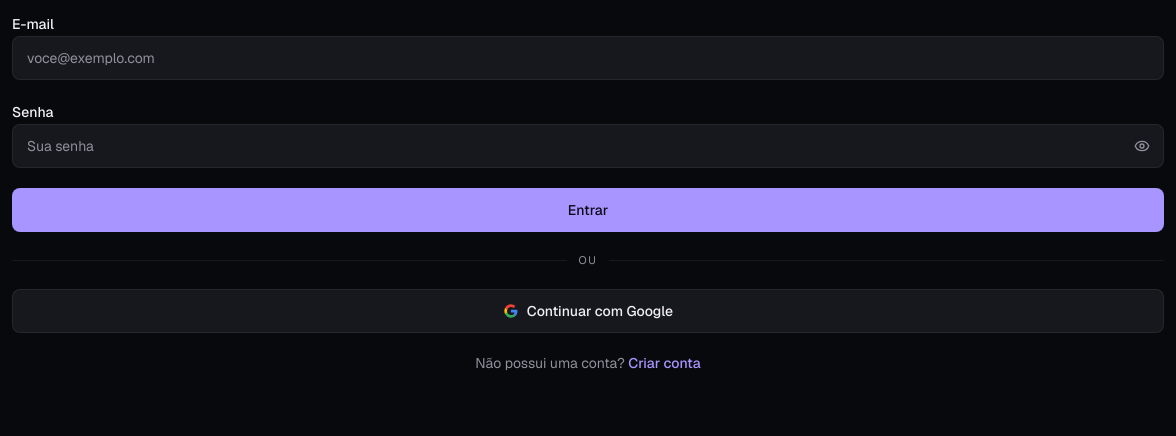
Test: fluxo visual de autenticação › mostra os erros de login perto dos campos
Step 1. Click the button "Entrar" → {"x": 588, "y": 210}, box [12, 188, 1164, 232]
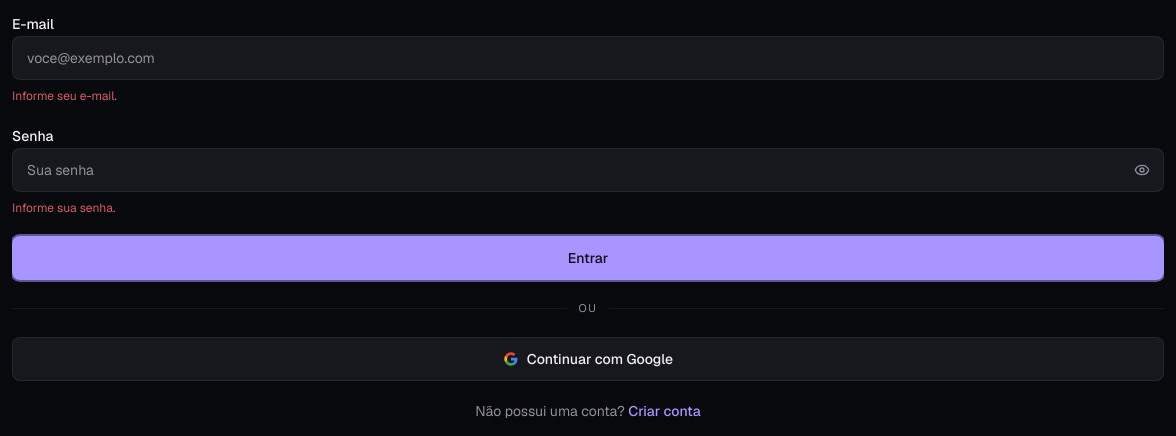
expect the text "Informe seu e-mail." is shown: met, box [12, 88, 117, 104]
expect the text "Informe sua senha." is shown: met, box [12, 200, 115, 216]
Step 2. Type "email-invalido" into the field labelled "E-mail" → {"x": 588, "y": 58}, box [12, 36, 1164, 80]
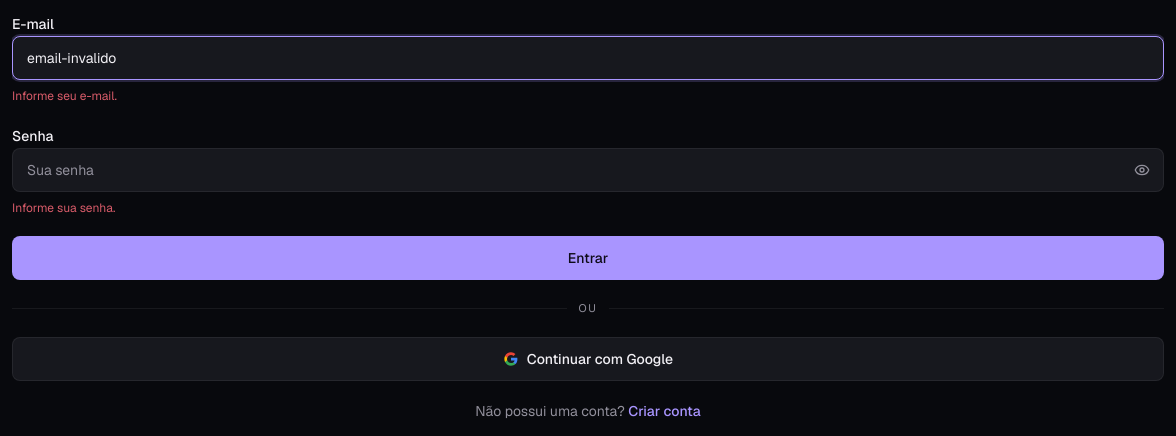
Step 3. Click the button "Entrar" → {"x": 588, "y": 258}, box [12, 236, 1164, 280]
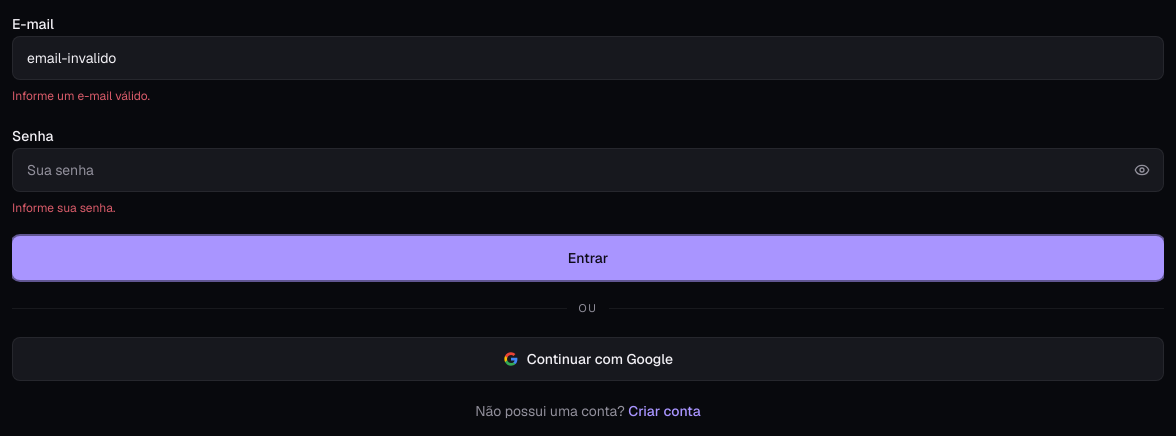
expect the text "Informe um e-mail válido." is shown: met, box [12, 88, 150, 104]
